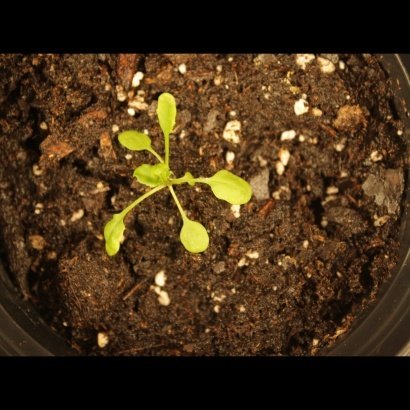leaf: (198, 169, 260, 208), (175, 206, 215, 260), (100, 208, 132, 265), (151, 87, 185, 135), (116, 126, 158, 161), (132, 162, 175, 193), (179, 167, 202, 190)
